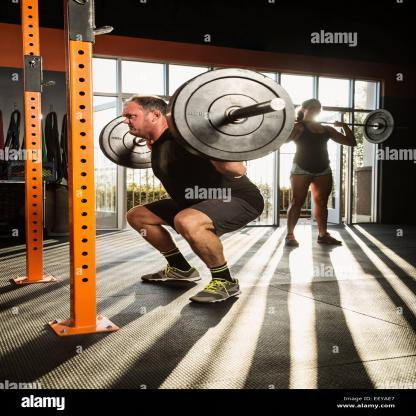barbell: (100, 68, 296, 167), (362, 110, 397, 145)
